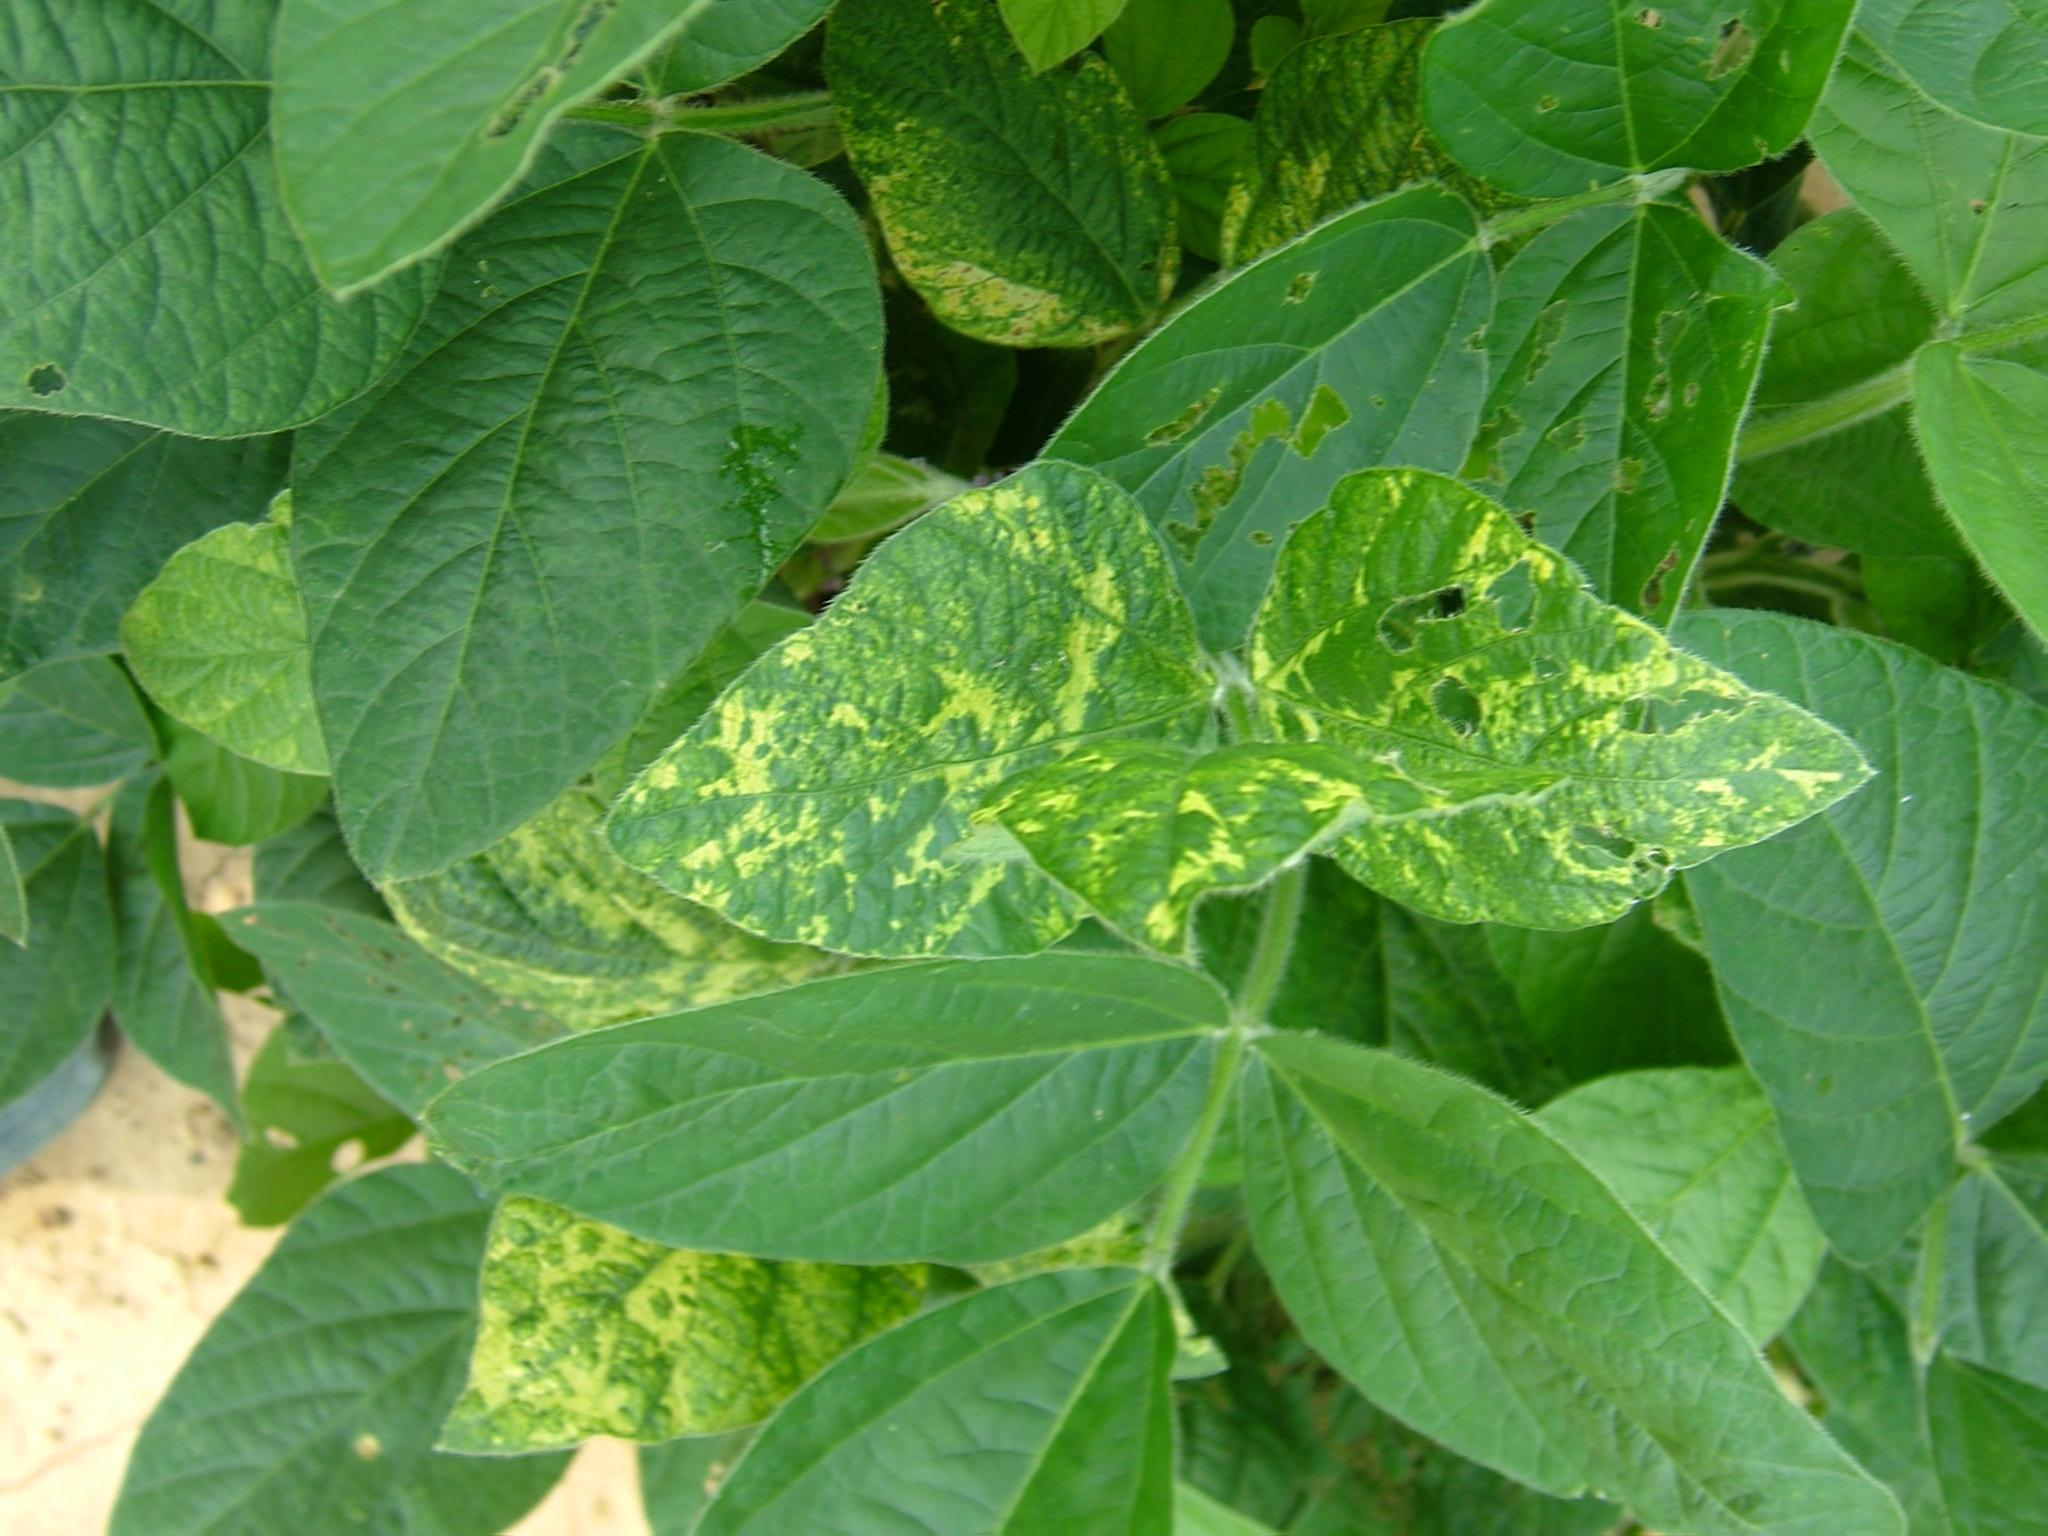Tomato leaf: (453, 949, 1232, 1279)
Tomato leaf mosaic virus: (1250, 461, 1877, 958), (635, 478, 1208, 937)
